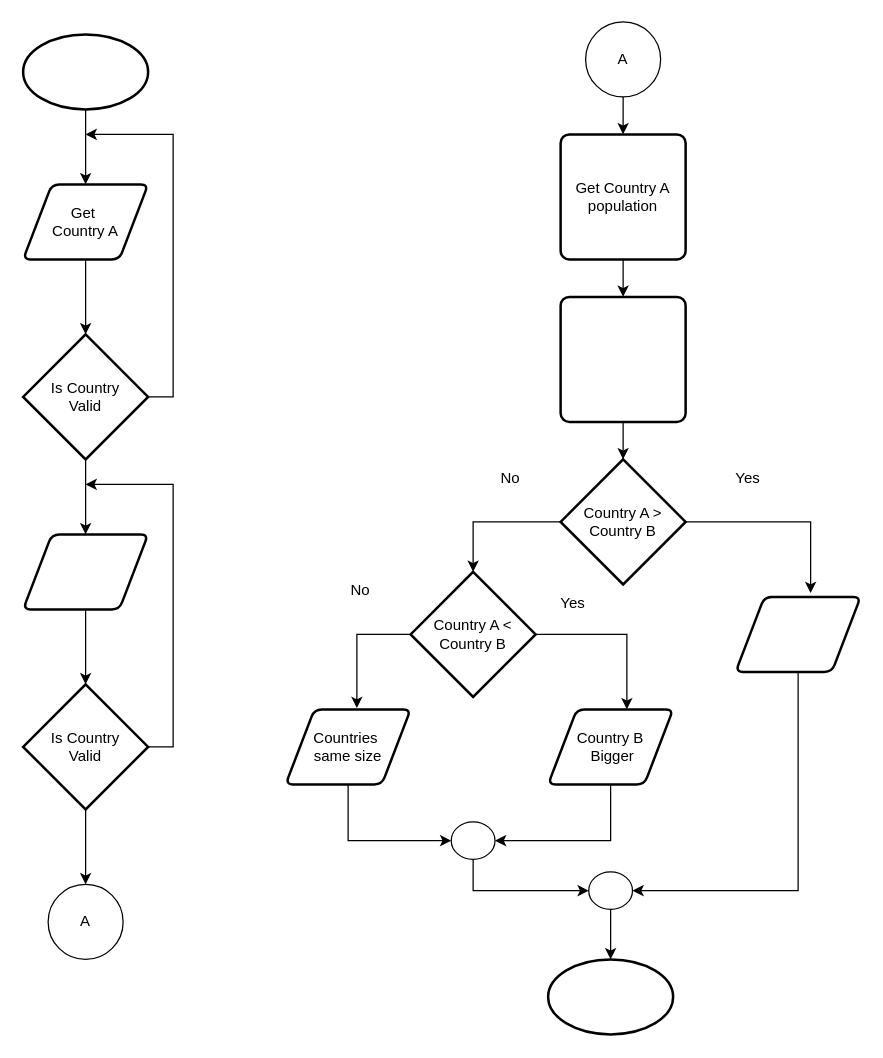
This 883x1058 diagram has some shape labels left out. The box of each missing label's shape, as (x1, y1, x2, y2) in pixels:
Country A Bigger: (734, 595, 861, 672)
End: (546, 958, 674, 1035)
Get Country B: (21, 532, 149, 610)
Get Country B population: (559, 295, 686, 422)
Start: (21, 32, 149, 110)
